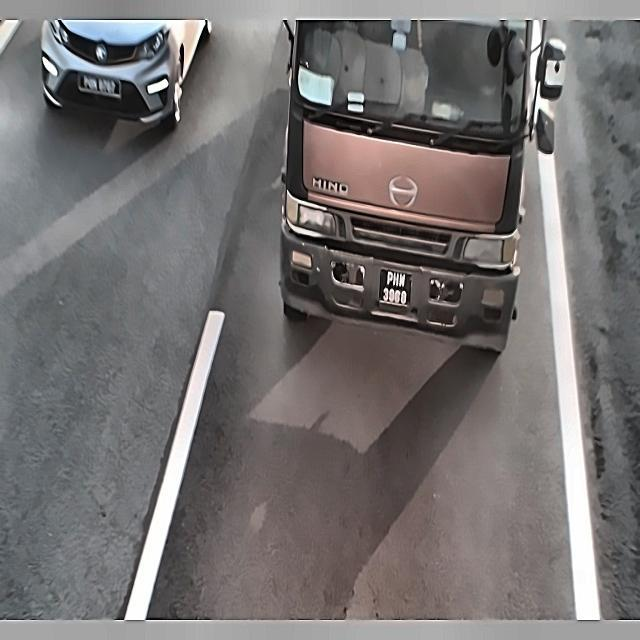car: (374, 262, 416, 315), (72, 68, 126, 105)
